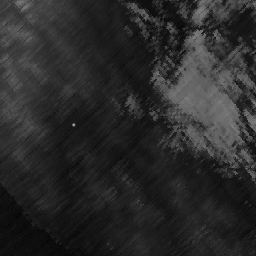Target: (70, 121, 77, 127)
